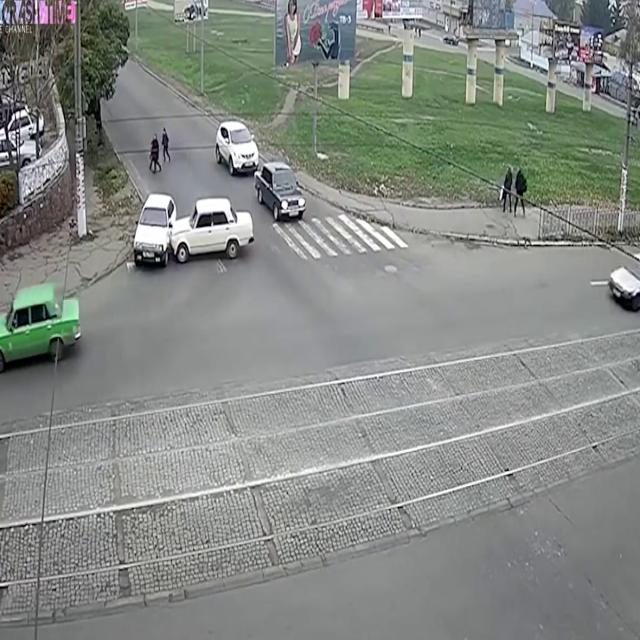accident: (128, 186, 258, 280)
non_accident: (212, 112, 308, 227)
